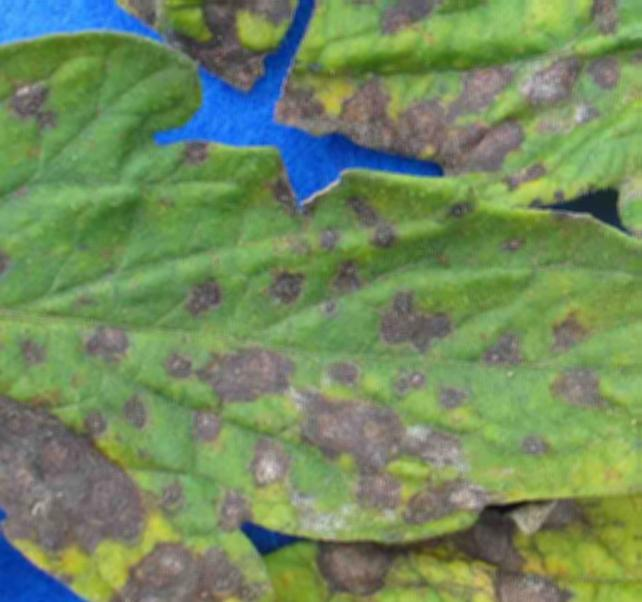Tomato Septoria leaf spot: (0, 8, 642, 602), (42, 0, 642, 354), (6, 316, 642, 602)
